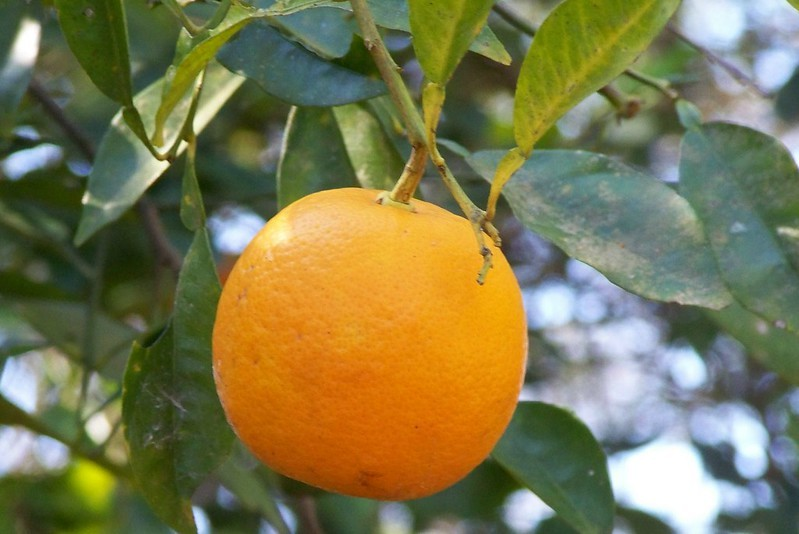orange: (209, 187, 534, 505)
